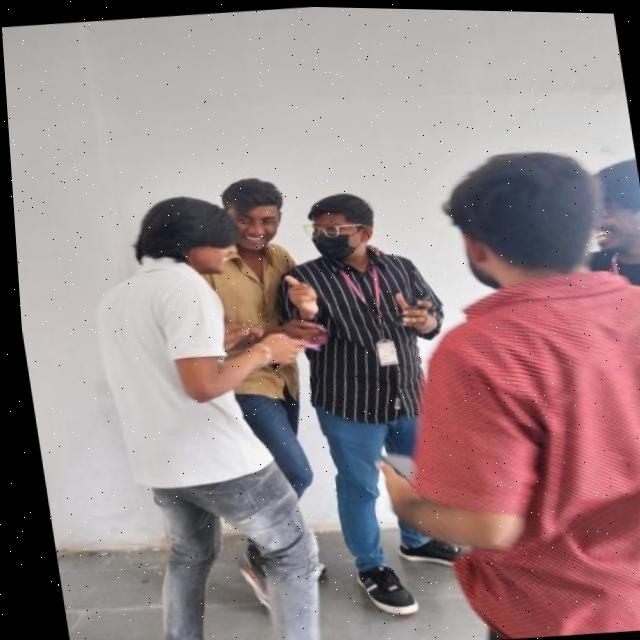id_card: (320, 256, 402, 375)
